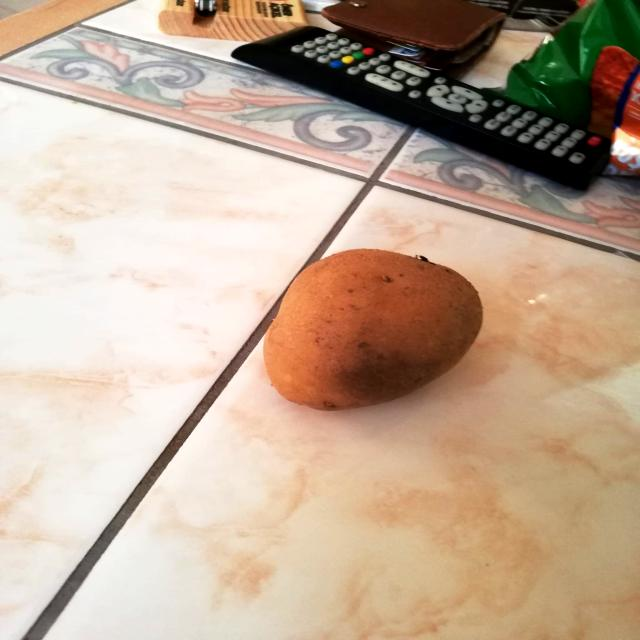potato: (251, 234, 493, 414)
